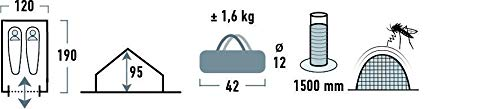90: (64, 49, 76, 61)
Dy: (361, 23, 418, 85)
mm: (324, 83, 344, 91)
